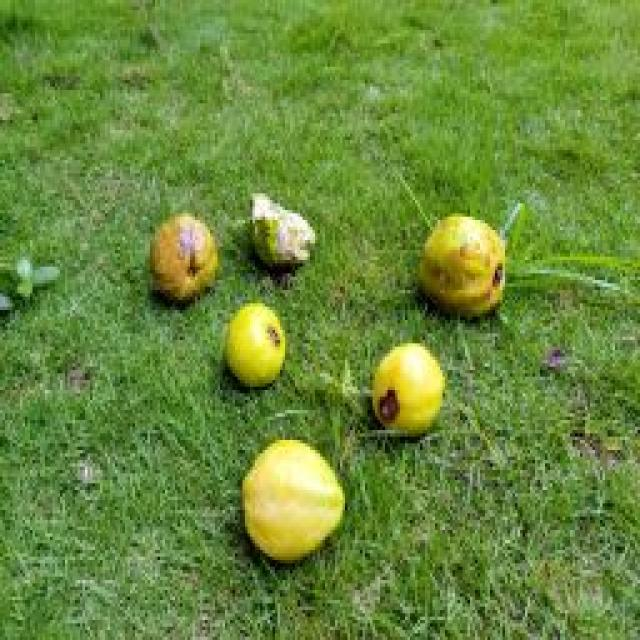Organik: (233, 436, 354, 572), (352, 333, 458, 456), (411, 205, 514, 326), (142, 191, 228, 309), (214, 297, 304, 385)
